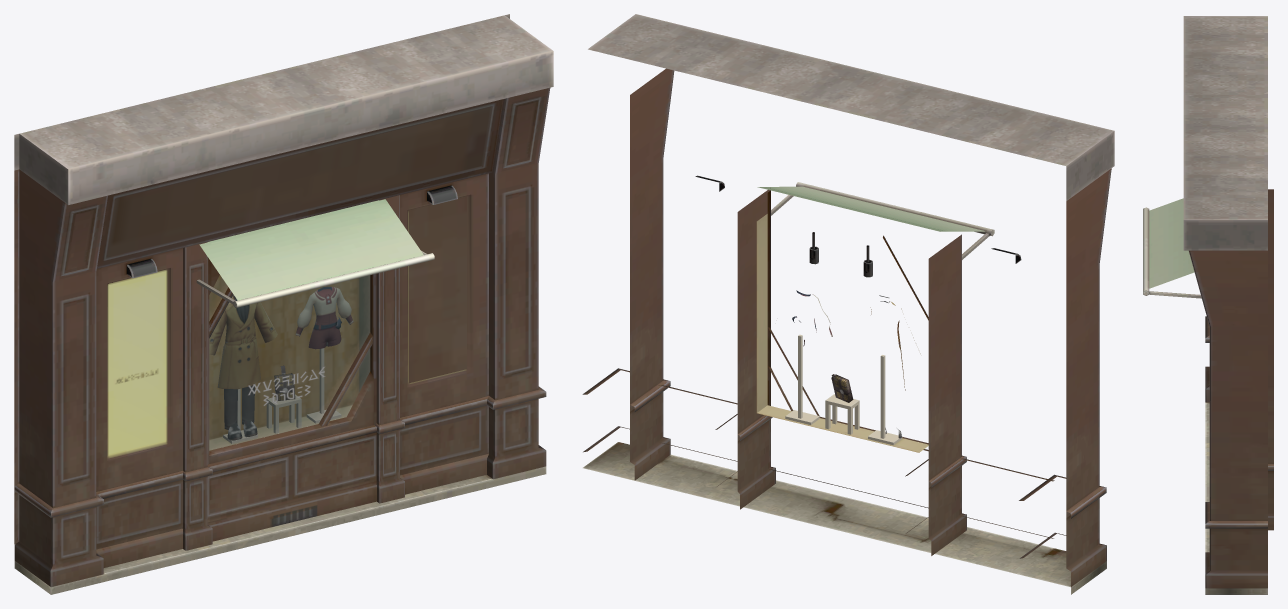
File: t1_b_boutique1_d_wall.glb
The picture shows the model from 3 angles, left to right: view 1: azimuth 30°, elevation 25°; view 2: azimuth 150°, elevation 25°; view 3: azimuth 270°, elevation 25°; orthographic projection. The views are drawn at different scales.
Visible parts, largest first — view 1: nomerge_t1_b_boutique1_d_wall_mesh; view 2: nomerge_t1_b_boutique1_d_wall_mesh; view 3: nomerge_t1_b_boutique1_d_wall_mesh.
Boxes of the visible parts, bbox=[...] form: nomerge_t1_b_boutique1_d_wall_mesh: bbox=[14, 14, 553, 594]; nomerge_t1_b_boutique1_d_wall_mesh: bbox=[582, 14, 1114, 594]; nomerge_t1_b_boutique1_d_wall_mesh: bbox=[1143, 16, 1273, 594].
Size of the model in its own units: 5.5 by 4.6 by 1.46.
Materials: 3 (3 with a texture image).
